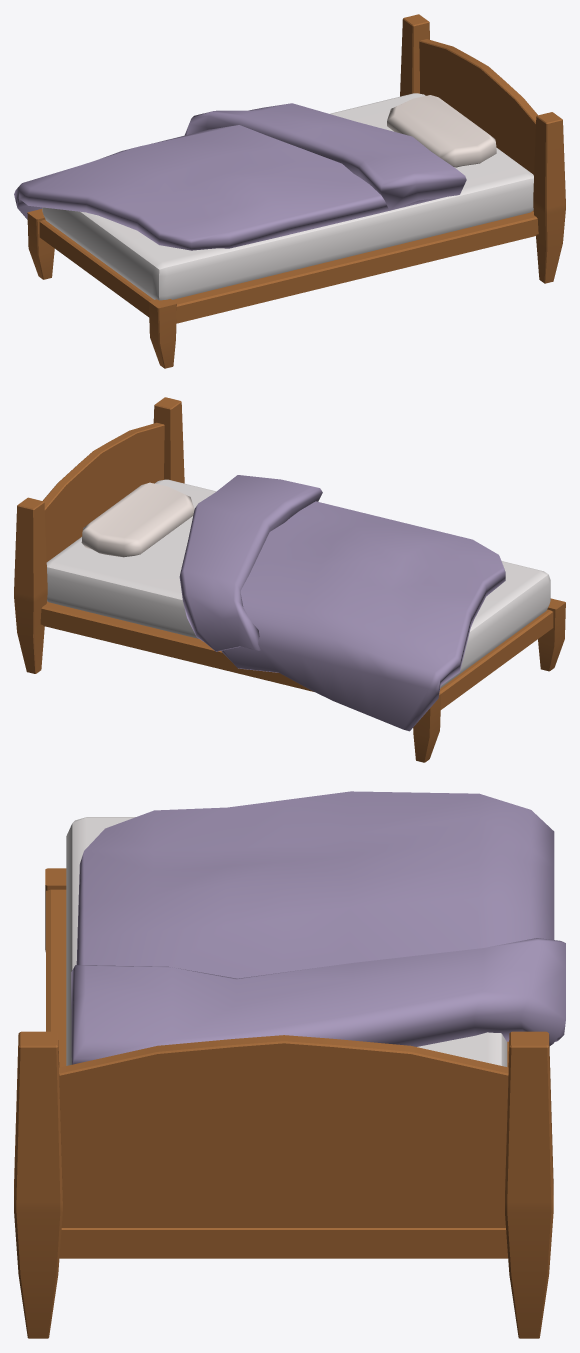
The model's file is Enviro_bed_001.fbx.
3 renders of one model, top to bottom at view 1: azimuth 30°, elevation 25°; view 2: azimuth 150°, elevation 25°; view 3: azimuth 270°, elevation 25°, orthographic. The views are drawn at different scales.
Visible parts, largest first — view 1: bed; view 2: bed; view 3: bed.
Boxes of the visible parts, left/top/right/bottom form: bed: left=14, top=14, right=565, bottom=368; bed: left=14, top=397, right=565, bottom=762; bed: left=14, top=791, right=565, bottom=1338.
Bounding box in the file's own units: 105 × 39.92 × 66.39.
